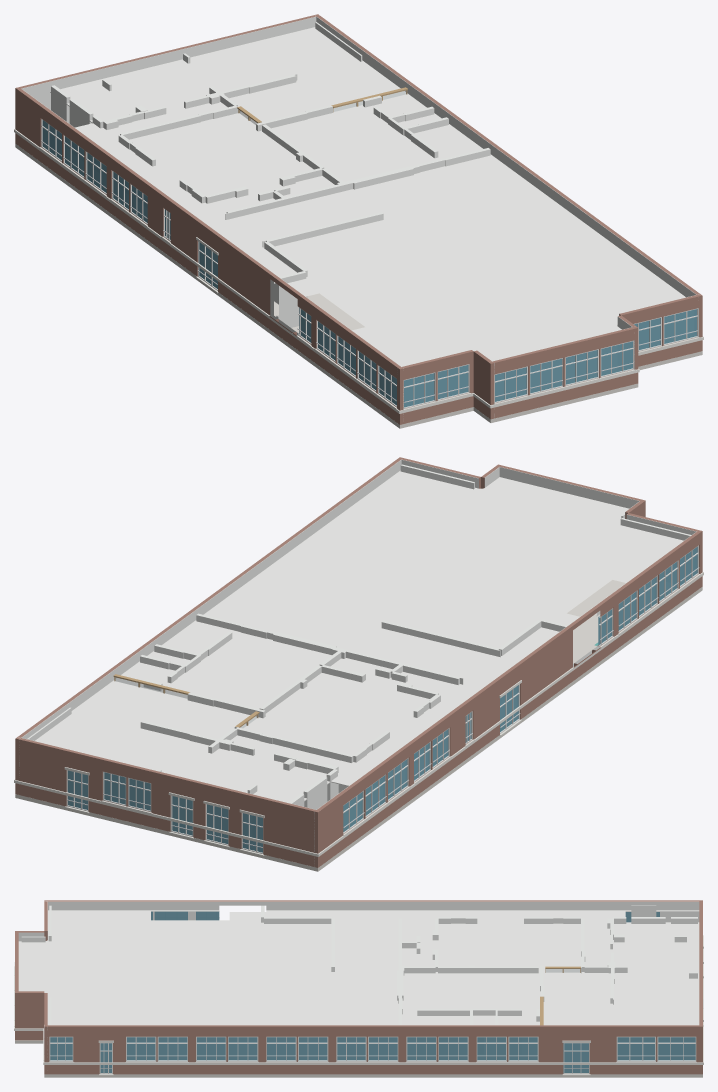
The model's file is hall_1F.glb.
The picture shows the model from 3 angles, top to bottom: view 1: azimuth 30°, elevation 25°; view 2: azimuth 150°, elevation 25°; view 3: azimuth 270°, elevation 25°; orthographic projection. The views are drawn at different scales.
Parts seen in each view (by area): view 1: hall_1F__ceil, hall_1F__brick, hall_1F__wallIn, hall_1F__glass, hall_1F__frameW, hall_1F__corrFloor, hall_1F__white, hall_1F__rail; view 2: hall_1F__ceil, hall_1F__brick, hall_1F__wallIn, hall_1F__glass, hall_1F__frameW, hall_1F__corrFloor, hall_1F__white; view 3: hall_1F__ceil, hall_1F__brick, hall_1F__wallIn, hall_1F__glass, hall_1F__frameW, hall_1F__white, hall_1F__corrFloor, hall_1F__rail.
Boxes of the visible parts, x1,y1,x2,y2 form: hall_1F__ceil: (50,27,685,366); hall_1F__brick: (15,14,702,424); hall_1F__wallIn: (21,15,698,416); hall_1F__glass: (42,120,696,407); hall_1F__frameW: (41,119,698,408); hall_1F__corrFloor: (15,144,702,428); hall_1F__white: (14,129,703,413); hall_1F__rail: (41,140,698,402); hall_1F__ceil: (35,470,683,802); hall_1F__brick: (15,457,702,867); hall_1F__wallIn: (18,459,696,866); hall_1F__glass: (68,547,697,852); hall_1F__frameW: (66,545,698,853); hall_1F__corrFloor: (15,580,702,871); hall_1F__white: (14,572,703,856); hall_1F__ceil: (18,910,699,1025); hall_1F__brick: (15,900,702,1074); hall_1F__wallIn: (18,901,699,1037); hall_1F__glass: (50,911,695,1073); hall_1F__frameW: (49,917,696,1074); hall_1F__white: (14,935,703,1075); hall_1F__corrFloor: (15,1040,702,1077); hall_1F__rail: (14,962,703,1068).
Bounding box in the file's own units: 20.64 × 3.85 × 47.24.
